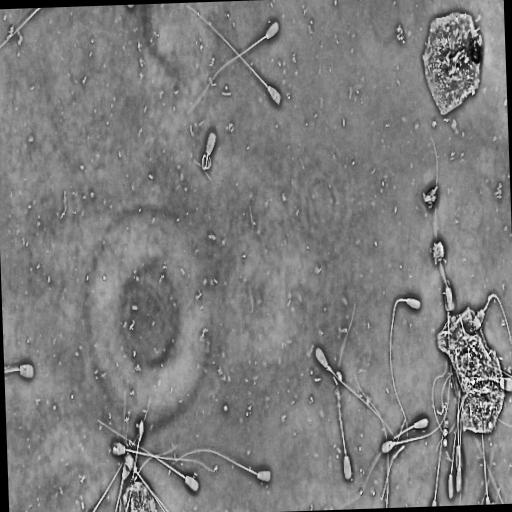coiled-tail: (194, 159, 203, 168), (205, 156, 210, 169), (201, 154, 206, 166), (205, 157, 207, 167), (206, 152, 208, 156)
dirt-particles: (436, 304, 506, 435), (420, 9, 485, 116), (118, 479, 158, 512), (421, 183, 439, 211), (430, 238, 445, 266)
loose-tail: (0, 7, 46, 53)
normal: (185, 3, 282, 106), (314, 344, 405, 450), (184, 18, 280, 115), (96, 417, 199, 493), (343, 416, 429, 507), (388, 295, 422, 444), (335, 298, 356, 482), (168, 448, 272, 483), (380, 415, 445, 454), (473, 288, 512, 342), (200, 127, 217, 171)
